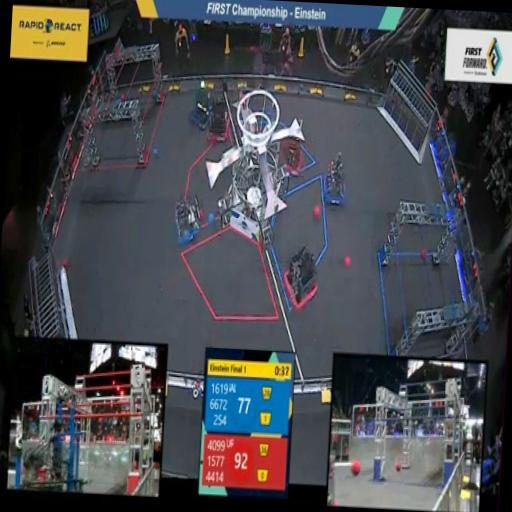robot: (280, 246, 326, 307), (203, 72, 234, 150), (171, 184, 206, 250), (318, 147, 354, 211), (186, 68, 218, 136), (280, 114, 308, 180)
